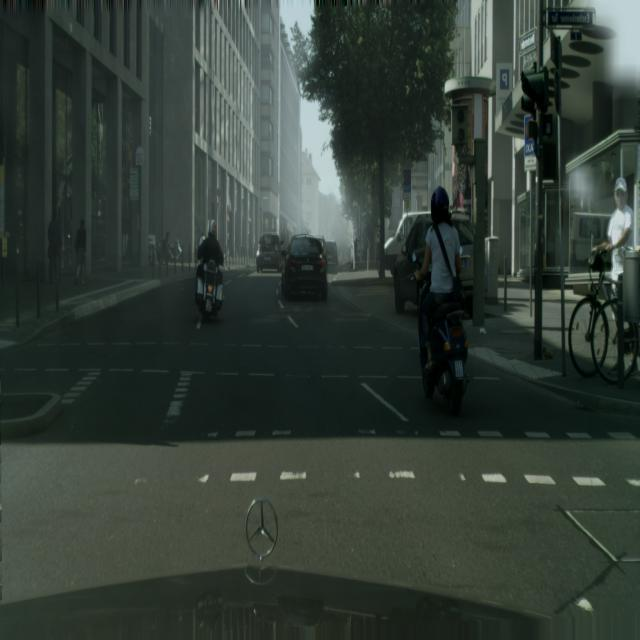bus: (418, 181, 470, 415), (195, 215, 224, 321)
car: (568, 173, 639, 384)
person: (47, 211, 62, 285), (75, 218, 86, 286), (159, 231, 172, 267)
truck: (393, 215, 476, 312), (282, 235, 328, 301), (256, 232, 282, 272), (323, 239, 339, 272)
